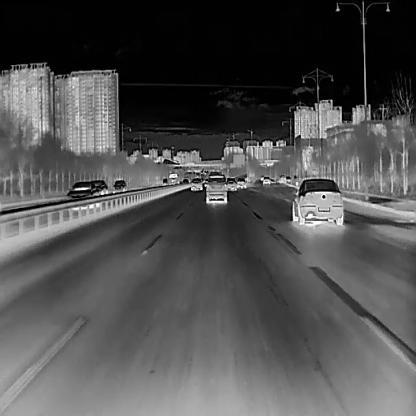car: (291, 177, 341, 224), (205, 171, 226, 203), (63, 180, 96, 199), (112, 180, 127, 192), (191, 176, 202, 190), (226, 177, 237, 190), (168, 172, 178, 186), (236, 178, 246, 188), (261, 175, 270, 184)
